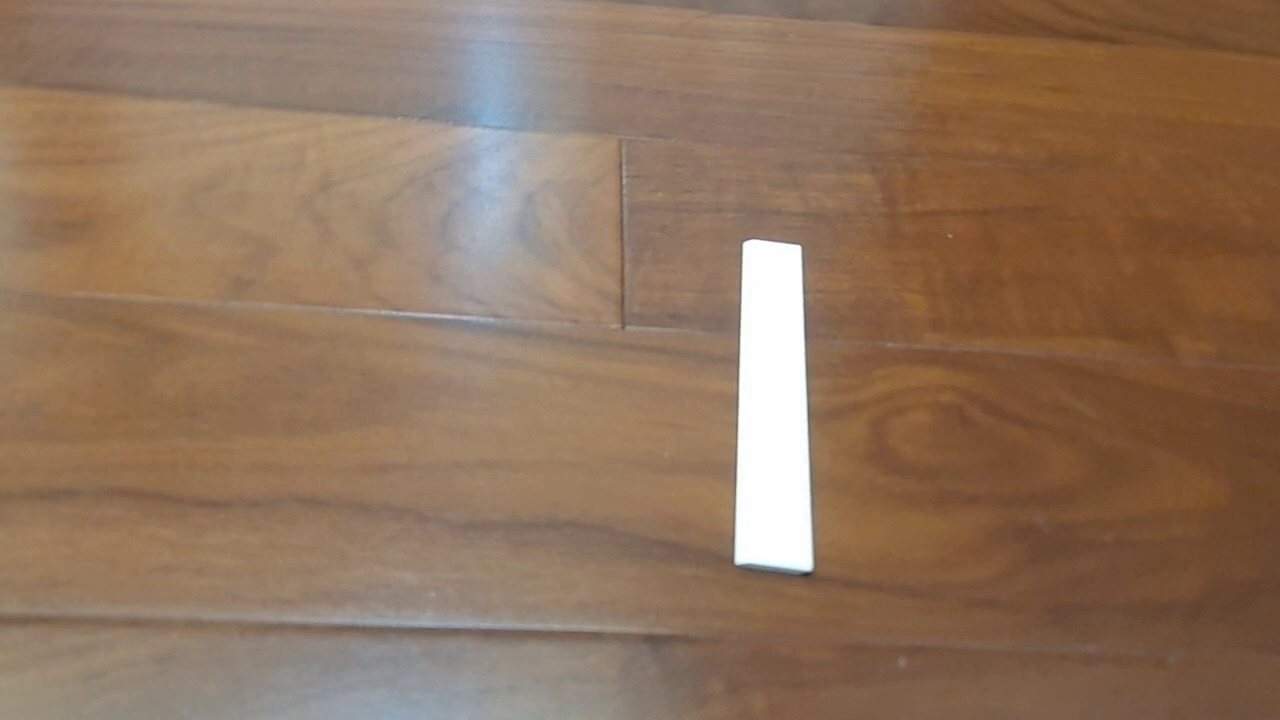ruler: (732, 237, 816, 577)
